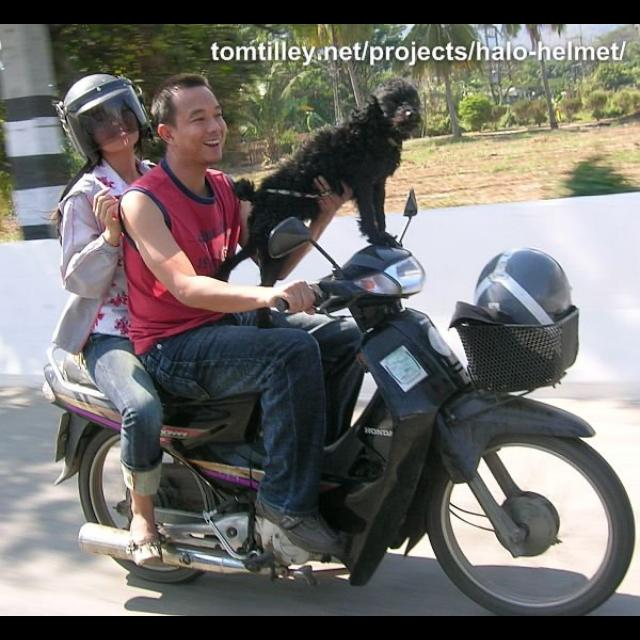Without Helmet: (152, 72, 242, 166)
